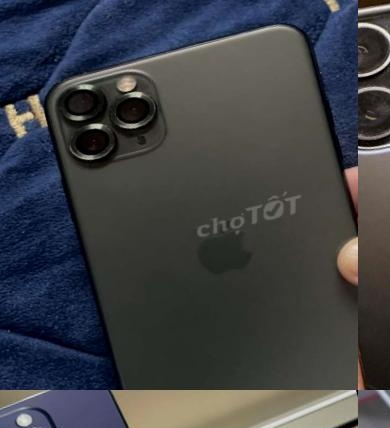physical_damage: (358, 194, 390, 390)
scratch: (358, 0, 390, 166), (88, 112, 124, 142), (54, 80, 81, 99), (150, 97, 174, 117)
